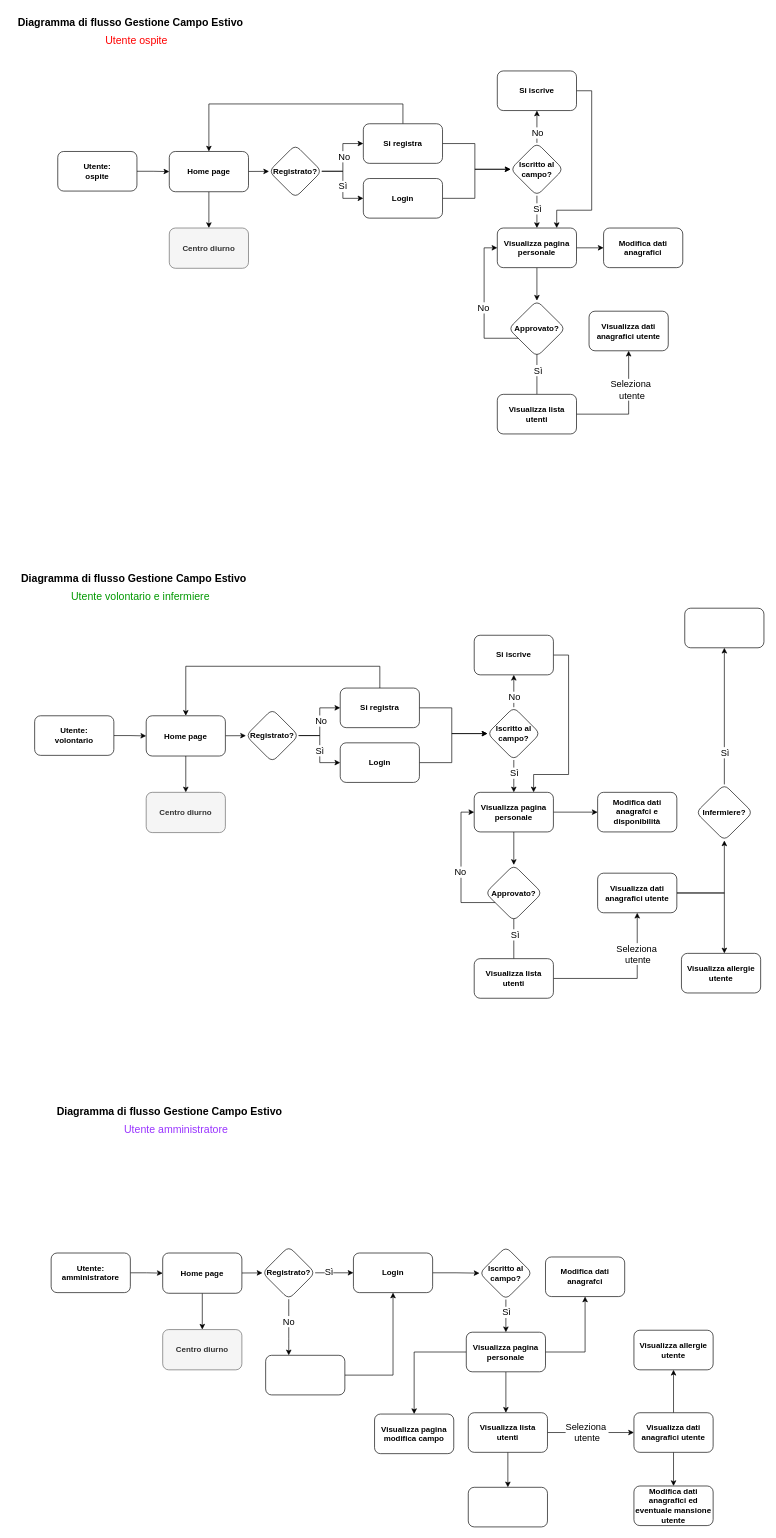
Some shapes in this 776 by 1538 pixel diagram are drawn without their labels. The centre of each missing label's shape, as x and y in pixels:
"Amministratore crea utente" belongs at (x=305, y=1375).
"Può creare utente" belongs at (x=507, y=1507).
"Visualizza e modifica dati sanitari utente" belongs at (x=724, y=628).
